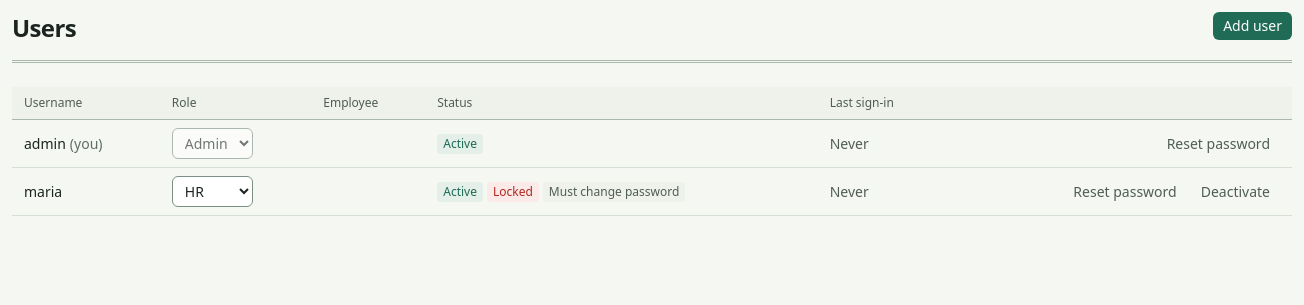
Scenario: UsersPage › resets a password
Expected: the row that starts with "maria" is shown, top-left (12, 168), bottom-right (1292, 216)
Click the button with aria-label "Reset password for maria". click: (1125, 192)
box: top-left (1063, 178), bottom-right (1187, 206)
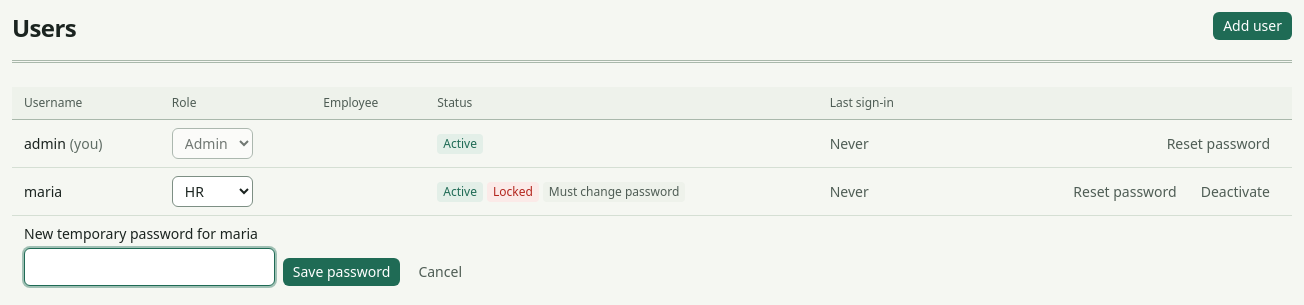
Type "another temp pass" into the password field labelled "New temporary password for maria". click: (149, 267)
box: top-left (24, 248), bottom-right (275, 286)
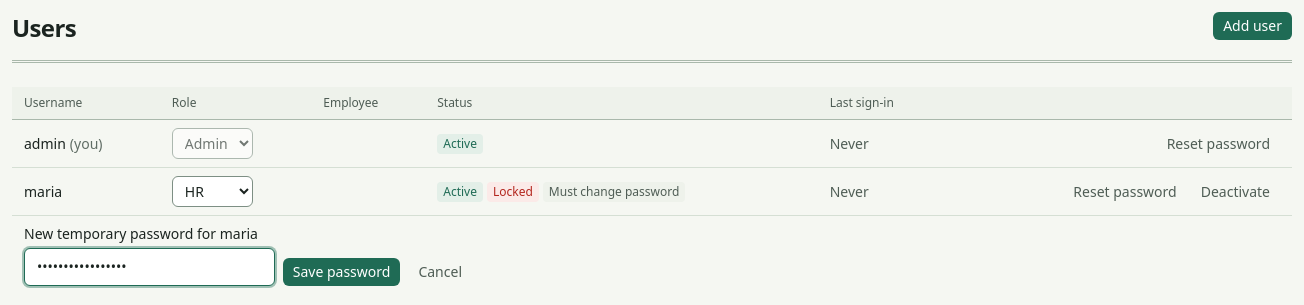
Click the button "Save password". click: (342, 272)
box: top-left (283, 258), bottom-right (400, 286)
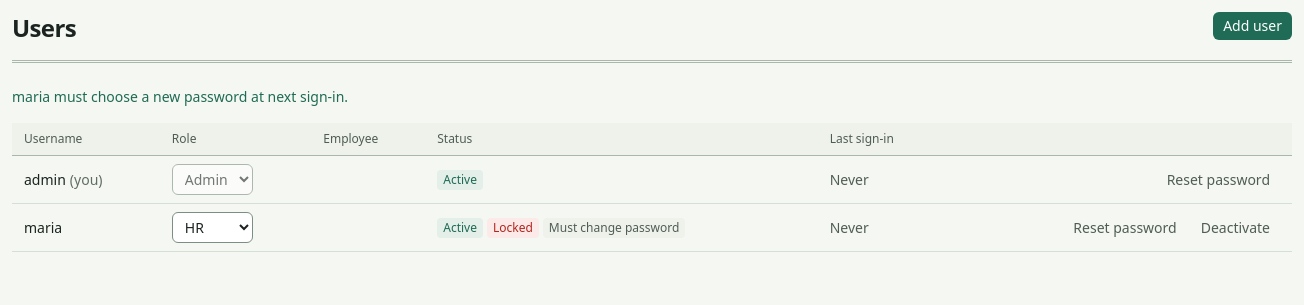
Now the text "maria must choose a new password at next sign-in." is shown, box top-left (12, 87), bottom-right (348, 106)
